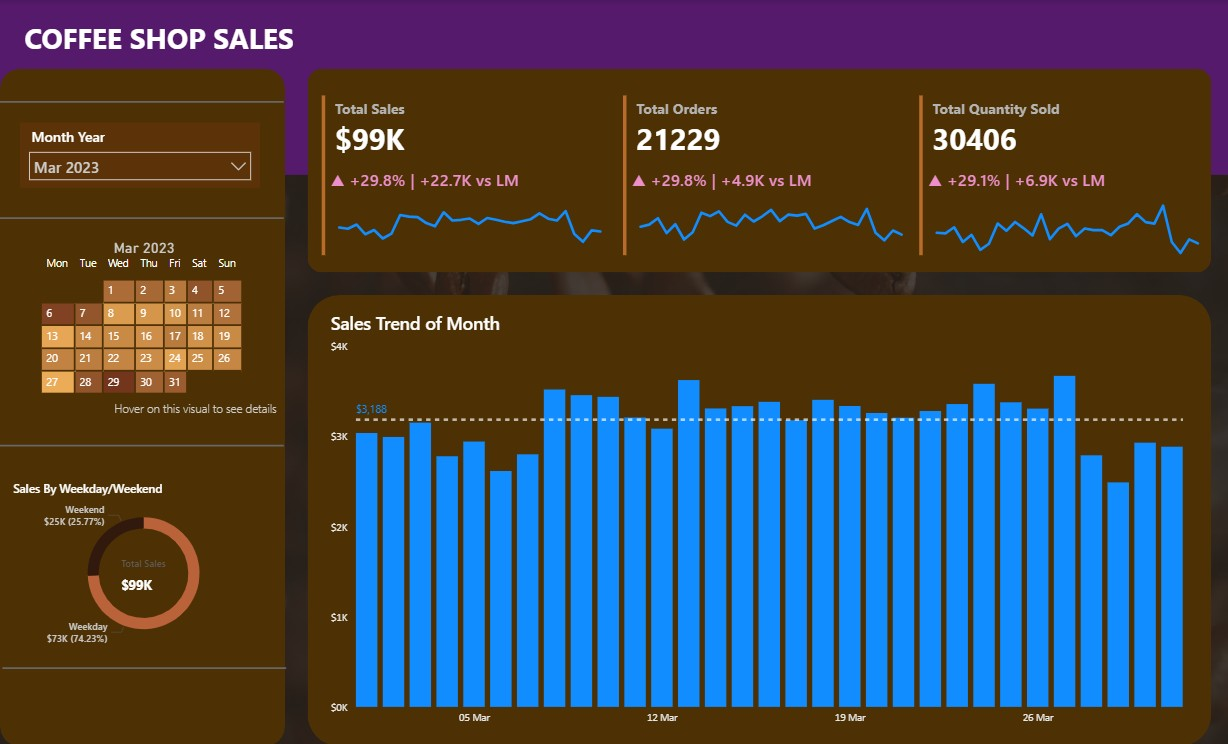

The page's visual inventory and layout, read from the dashboard file:
{"tool":"powerbi","page":{"name":"Page 1","canvas":[1400,850],"ordinal":0},"visuals":[{"type":"shape","box":[0,0,1400,199.4],"z":0},{"type":"group","id":"g1","title":"Group 2","box":[15.7,264.9,294.8,216.5],"z":0,"group":"g5"},{"type":"pivotTable","fields":{"Rows":["Date Table.Week No."],"Columns":["Date Table.Day name"],"Values":["Min(Date Table.Day No.)"]},"box":[15.7,283.4,294.8,198],"z":0,"group":"g1"},{"type":"shape","box":[0,78.3,324.7,772],"z":1000},{"type":"card","fields":{"Values":["Min(Date Table.Month Year)"]},"box":[109.7,264.9,109.7,35.6],"z":1000,"group":"g1"},{"type":"card","fields":{"Values":["Transactions.Foot Note"]},"box":[123.9,451.5,198,32.8],"z":1000,"group":"g5"},{"type":"shape","box":[350.4,78.3,1029.7,232.2],"z":2000},{"type":"textbox","box":[22.8,17.1,348.9,61.2],"z":3000},{"type":"cardVisual","fields":{"Data":["Transactions.Total Sales"]},"box":[361.8,104,337.6,192.3],"z":4000,"group":"g2"},{"type":"cardVisual","fields":{"Data":["Transactions.Total Orders"]},"box":[705,104,337.6,192.3],"z":4000,"group":"g3"},{"type":"cardVisual","fields":{"Data":["Transactions.Total Quantity Sold"]},"box":[1042.6,104,337.6,192.3],"z":4000,"group":"g4"},{"type":"slicer","fields":{"Values":["Date Table.Month Year"]},"box":[22.8,139.6,273.5,74.1],"z":4000},{"type":"group","id":"g2","title":"Group 1","box":[361.8,104,337.6,192.3],"z":5000},{"type":"lineChart","fields":{"Category":["Date Table.Date Hierarchy.Date"],"Y":["Transactions.Total Sales"]},"box":[371.8,192.3,327.6,104],"z":5001,"group":"g2"},{"type":"lineChart","fields":{"Category":["Date Table.Date Hierarchy.Date"],"Y":["Transactions.Total Orders"]},"box":[715,192.3,327.6,104],"z":5001,"group":"g3"},{"type":"lineChart","fields":{"Category":["Date Table.Date Hierarchy.Date"],"Y":["Transactions.Total Quantity Sold"]},"box":[1052.6,192.3,327.6,104],"z":5001,"group":"g4"},{"type":"group","id":"g3","title":"Group 1","box":[705,104,337.6,192.3],"z":6000},{"type":"group","id":"g4","title":"Group 1","box":[1042.6,104,337.6,192.3],"z":7000},{"type":"group","id":"g5","title":"Group 3","box":[15.7,264.9,306.2,219.3],"z":8004},{"type":"shape","box":[0,491.4,323.3,32.8],"z":8005},{"type":"shape","box":[0,232.2,323.3,32.8],"z":8006},{"type":"donutChart","title":"Sales By Weekday/Weekend","fields":{"Category":["Date Table.Weeekday / Weekend"],"Y":["Transactions.Total Sales"]},"box":[10,546.9,307.6,195.1],"z":8007,"group":"g6"},{"type":"cardVisual","fields":{"Data":["Transactions.Total Sales"]},"box":[121.1,611,96.9,89.7],"z":8008,"group":"g6"},{"type":"shape","box":[2.8,744.9,323.3,32.8],"z":8009},{"type":"group","id":"g6","title":"Group 4","box":[10,546.9,307.6,195.1],"z":8010},{"type":"shape","box":[350.4,336.1,1029.7,514.2],"z":8011},{"type":"columnChart","title":"Sales Trend of Month","fields":{"Category":["Transactions.transaction_date"],"Y":["Transactions.Total Sales"]},"box":[371.7,354.6,987,480],"z":8012},{"type":"shape","box":[0,99.7,323.3,32.8],"z":8013}]}

Visuals, with their boxes in screenshot pixels (x1, y1, x2, y2), scaled from the page's 1400x850 canvas onto the 1228x744 screenshot:
shape: region(0, 0, 1227, 175)
"Group 2" group: region(14, 232, 272, 421)
pivotTable - Date Table.Week No. x Date Table.Day name: region(14, 248, 272, 421)
shape: region(0, 69, 285, 743)
card - Min(Date Table.Month Year): region(96, 232, 192, 263)
card - Transactions.Foot Note: region(109, 395, 282, 424)
shape: region(307, 69, 1211, 272)
textbox: region(20, 15, 326, 69)
cardVisual - Transactions.Total Sales: region(317, 91, 613, 259)
cardVisual - Transactions.Total Orders: region(618, 91, 915, 259)
cardVisual - Transactions.Total Quantity Sold: region(915, 91, 1211, 259)
slicer - Date Table.Month Year: region(20, 122, 260, 187)
"Group 1" group: region(317, 91, 613, 259)
lineChart - Date Table.Date Hierarchy.Date x Transactions.Total Sales: region(326, 168, 613, 259)
lineChart - Date Table.Date Hierarchy.Date x Transactions.Total Orders: region(627, 168, 915, 259)
lineChart - Date Table.Date Hierarchy.Date x Transactions.Total Quantity Sold: region(923, 168, 1211, 259)
"Group 1" group: region(618, 91, 915, 259)
"Group 1" group: region(915, 91, 1211, 259)
"Group 3" group: region(14, 232, 282, 424)
shape: region(0, 430, 284, 459)
shape: region(0, 203, 284, 232)
"Sales By Weekday/Weekend" donutChart: region(9, 479, 279, 649)
cardVisual - Transactions.Total Sales: region(106, 535, 191, 613)
shape: region(2, 652, 286, 681)
"Group 4" group: region(9, 479, 279, 649)
shape: region(307, 294, 1211, 743)
"Sales Trend of Month" columnChart: region(326, 310, 1192, 731)
shape: region(0, 87, 284, 116)
